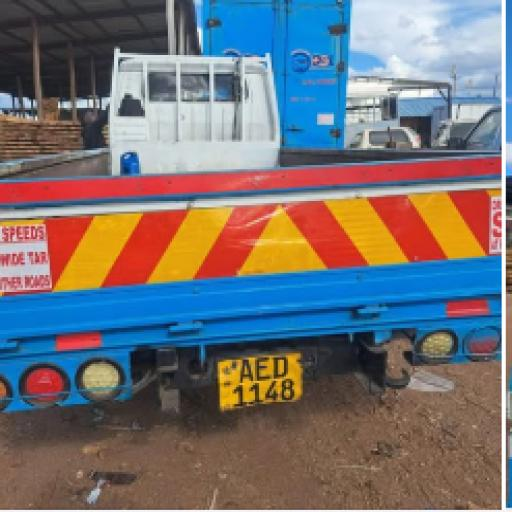number-plates: (218, 353, 300, 403)
